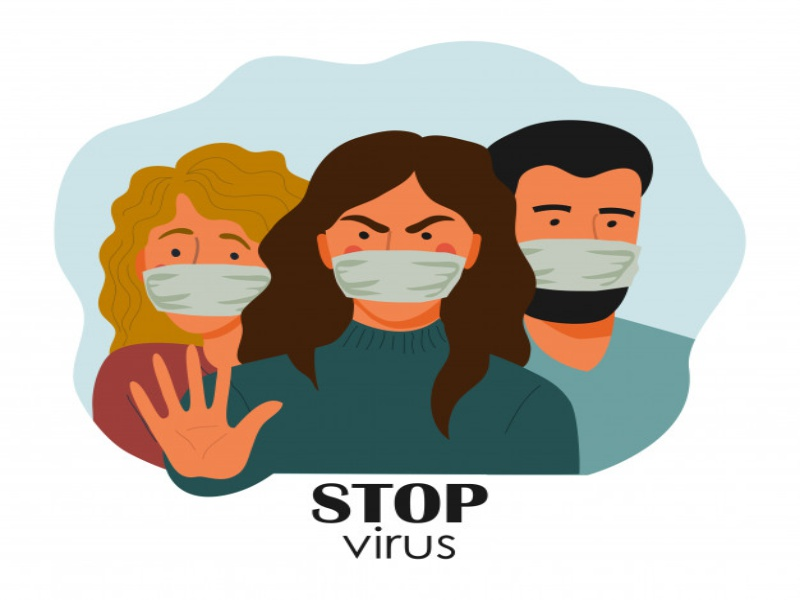ManaoArotava: (499, 126, 657, 340), (312, 149, 485, 325), (130, 164, 285, 339)
